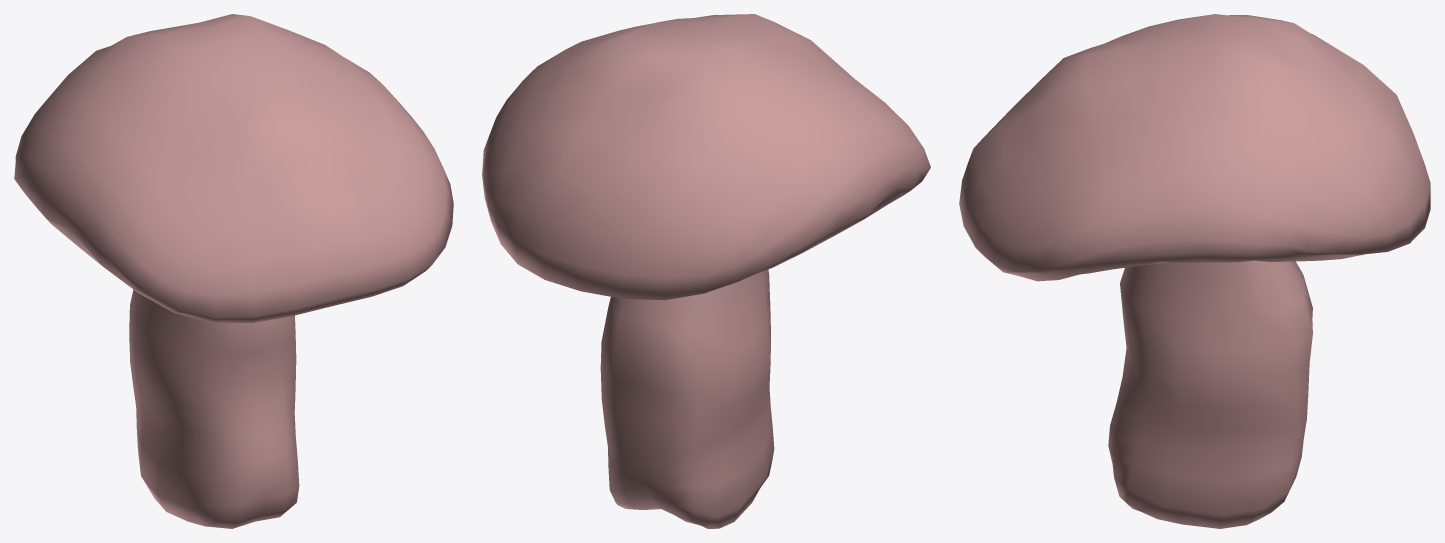
The model's file is mushroooooom.gltf.
3 views of the same model, side by side, from view 1: azimuth 30°, elevation 25°; view 2: azimuth 150°, elevation 25°; view 3: azimuth 270°, elevation 25° (orthographic). The views are drawn at different scales.
Visible parts, largest first — view 1: mushroom; view 2: mushroom; view 3: mushroom.
Part boxes in pixels (box(x1,y1,x2,y2)): mushroom: box(14, 14, 453, 528); mushroom: box(482, 14, 930, 528); mushroom: box(959, 14, 1430, 528).
Size of the model in its own units: 5.75 by 7.2 by 6.49.
